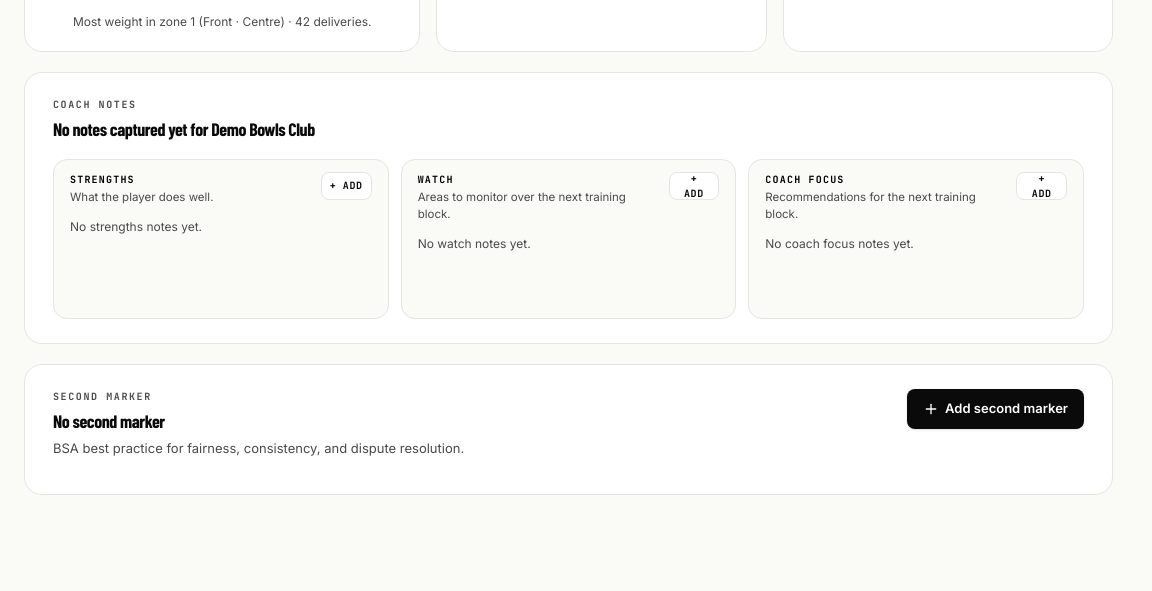
Test: <AssessmentResults /> — second marker section › clicking 'Add second marker' opens the form
This screenshot has width=1152, height=591.
(page scrolled)
Click the button "Add second marker".
click(996, 409)  # box [907,389,1084,429]
(page scrolled)
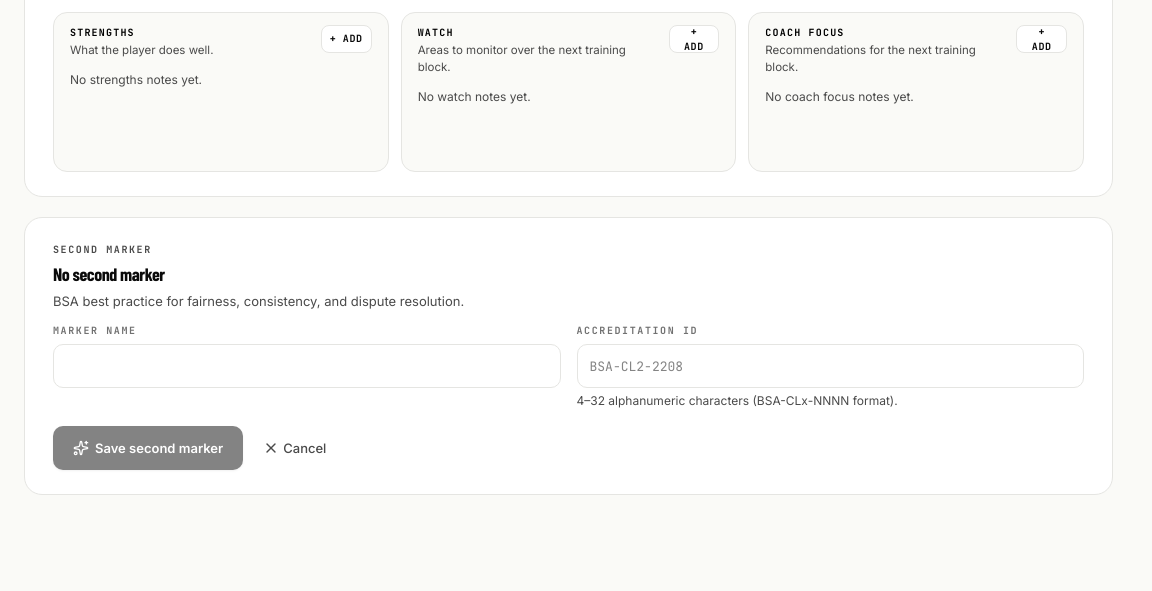
Now the form is shown, box [53,323,1084,470]
